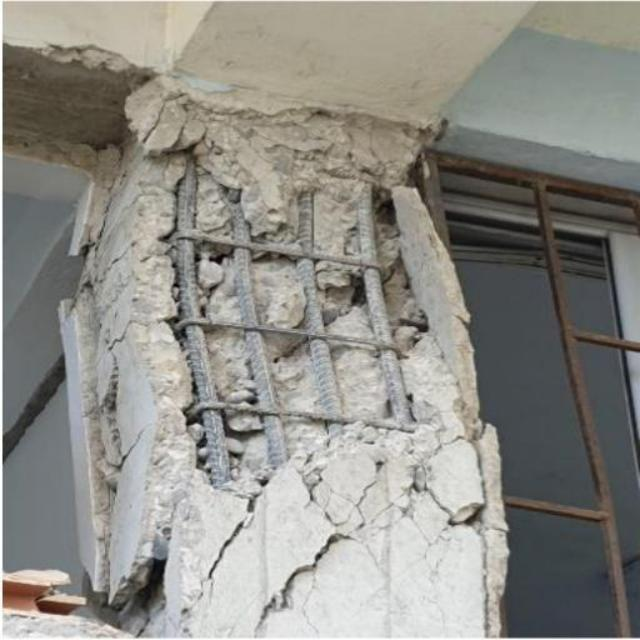D0w0: (70, 89, 480, 565)
